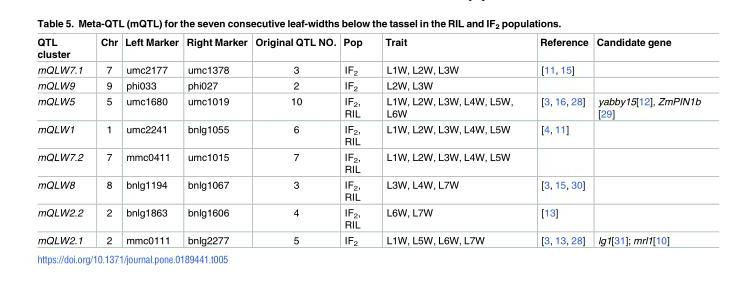table: (36, 37, 699, 246)
table column: (373, 37, 525, 246), (591, 37, 699, 246), (250, 37, 339, 246), (181, 37, 250, 246), (525, 37, 591, 246), (120, 37, 181, 246), (36, 37, 90, 246), (339, 37, 373, 246), (90, 37, 120, 246)
table column header: (36, 37, 699, 62)
table row: (36, 121, 699, 149), (36, 149, 699, 177), (36, 204, 699, 232), (36, 94, 699, 121), (36, 177, 699, 204), (36, 37, 699, 62), (36, 62, 699, 78), (36, 78, 699, 94), (36, 232, 699, 246)
